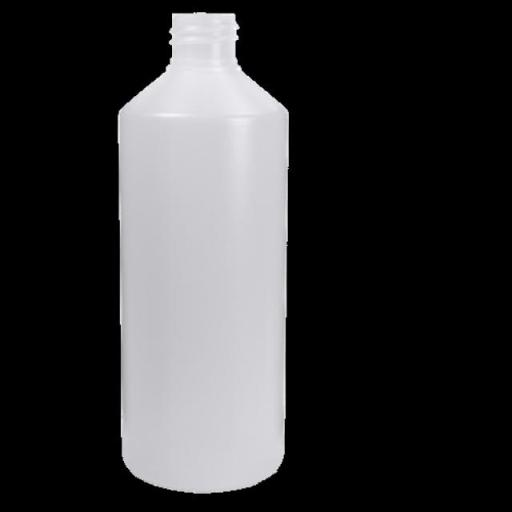plastic: (116, 12, 294, 492)
